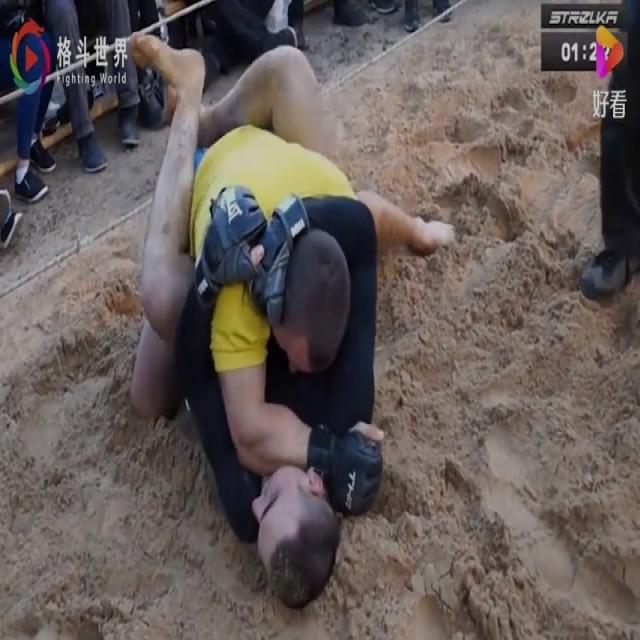fight: (118, 32, 468, 632)
